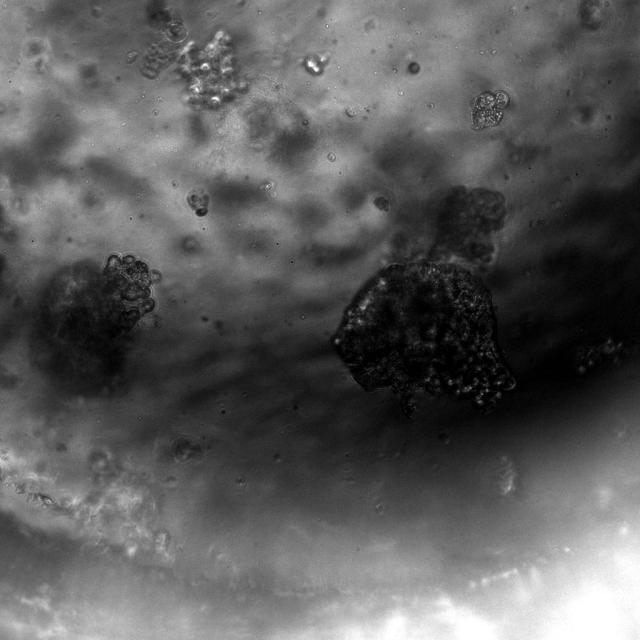organoid: (333, 259, 514, 415), (32, 254, 161, 392), (139, 0, 248, 110), (388, 185, 506, 268), (471, 90, 509, 130), (187, 187, 210, 217), (374, 196, 390, 212), (408, 61, 419, 73)
